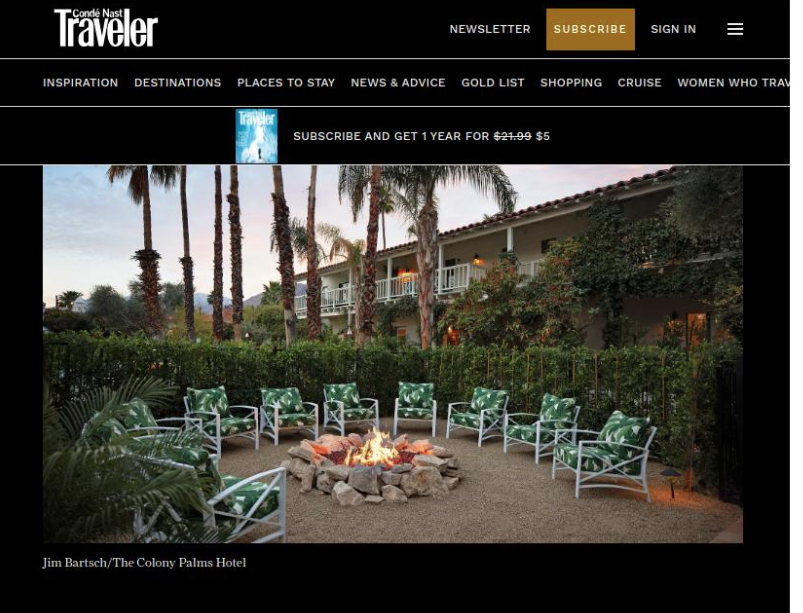menu: (22, 2, 789, 171)
